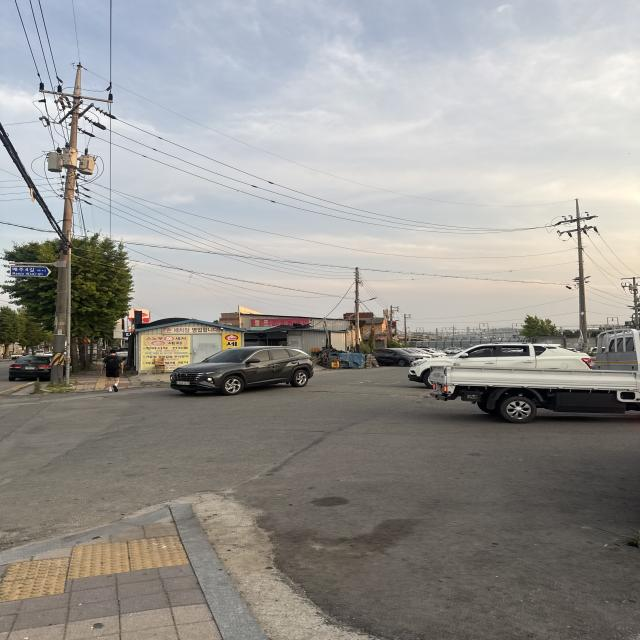car: (433, 324, 640, 430), (408, 340, 598, 381), (168, 345, 317, 395), (7, 354, 60, 381)
